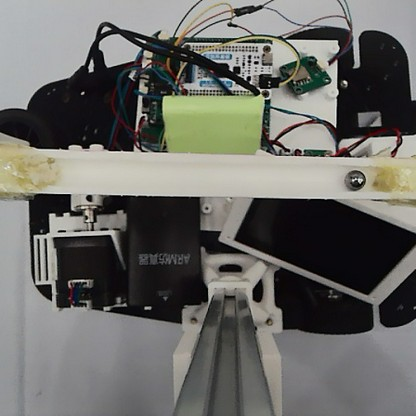ironball: (343, 167, 367, 192)
